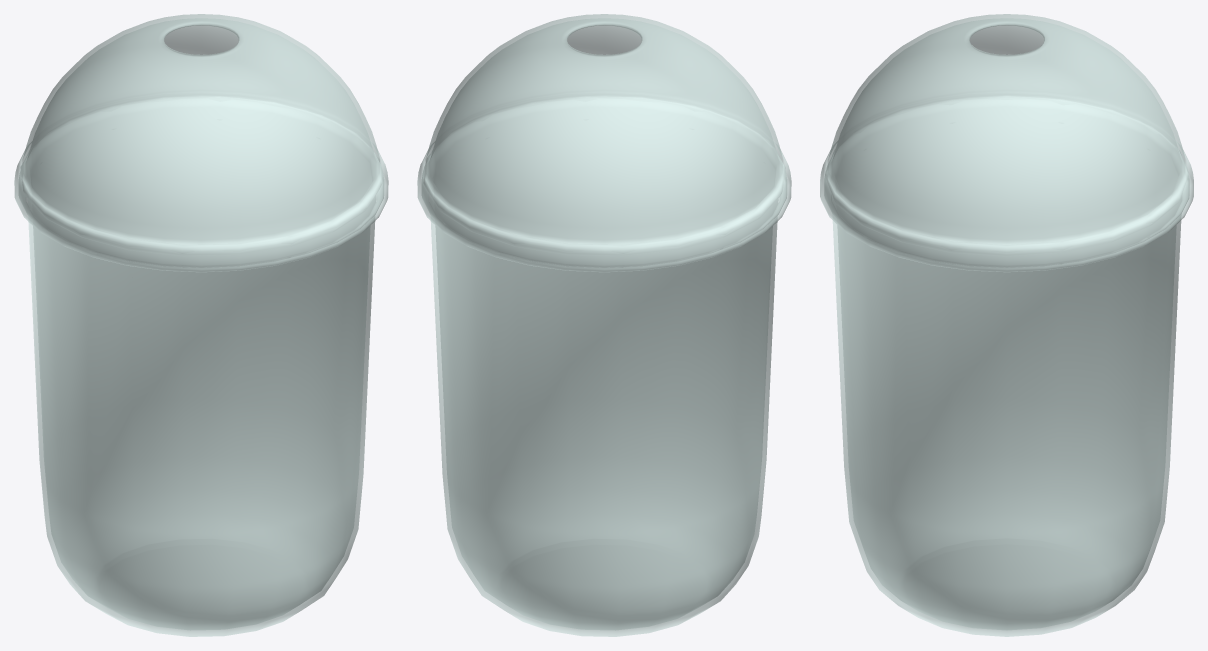
File: Cup2.glb
3 renders of one model, left to right at view 1: azimuth 30°, elevation 25°; view 2: azimuth 150°, elevation 25°; view 3: azimuth 270°, elevation 25°, orthographic.
Visible parts, largest first — view 1: Cup; view 2: Cup; view 3: Cup.
Boxes of the visible parts, box(x1,y1,x2,y2) form: Cup: box(14, 14, 388, 636); Cup: box(417, 14, 791, 636); Cup: box(820, 14, 1193, 636).
Bounding box in the file's own units: 9.71 × 15.73 × 9.66.
1 material, 1 textured.
